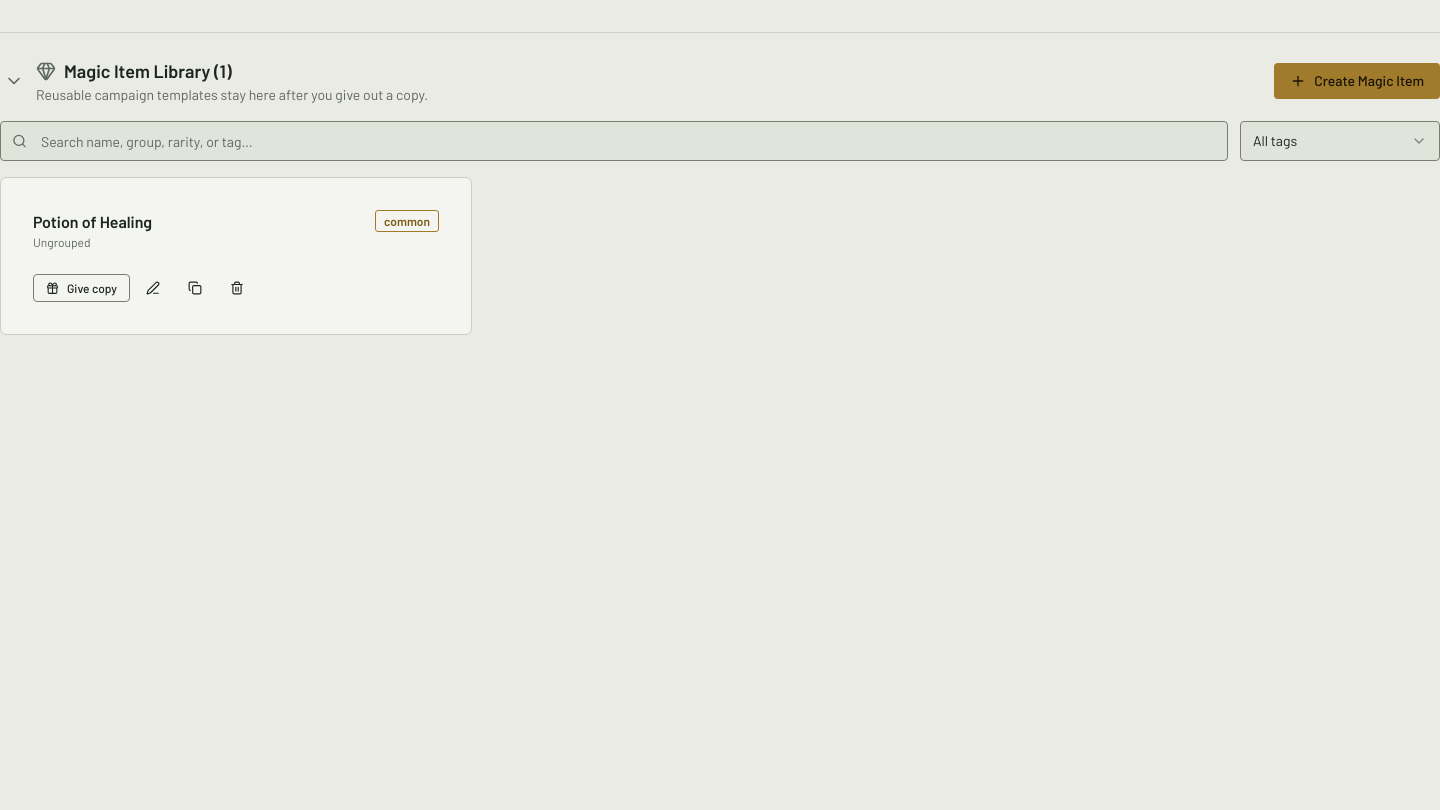
MagicItemLibrarySection › groups give recipients into players and NPCs
Click the button "Give copy": [82, 288] box [33, 274, 130, 302]
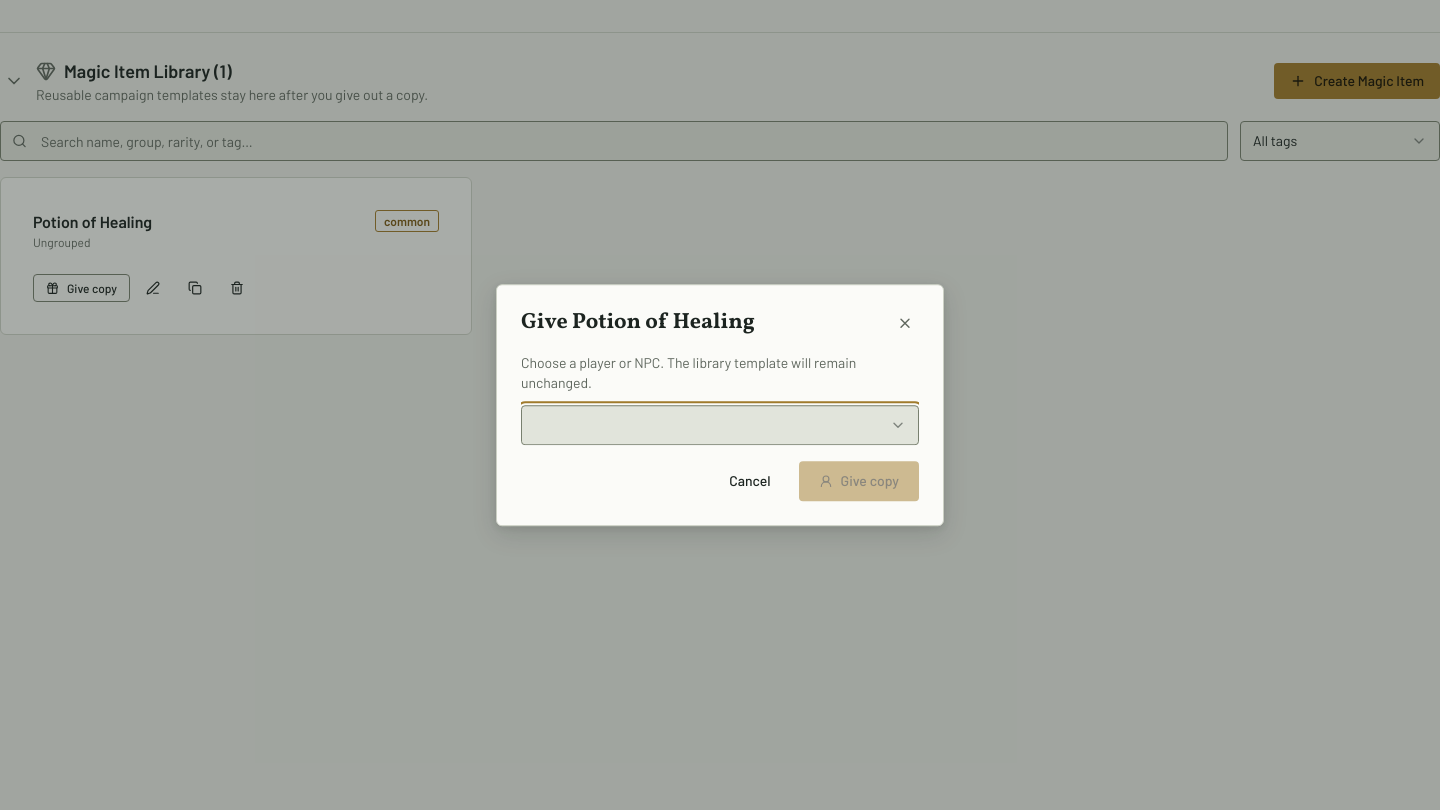
Click the dropdown: [898, 425] box [521, 405, 919, 445]
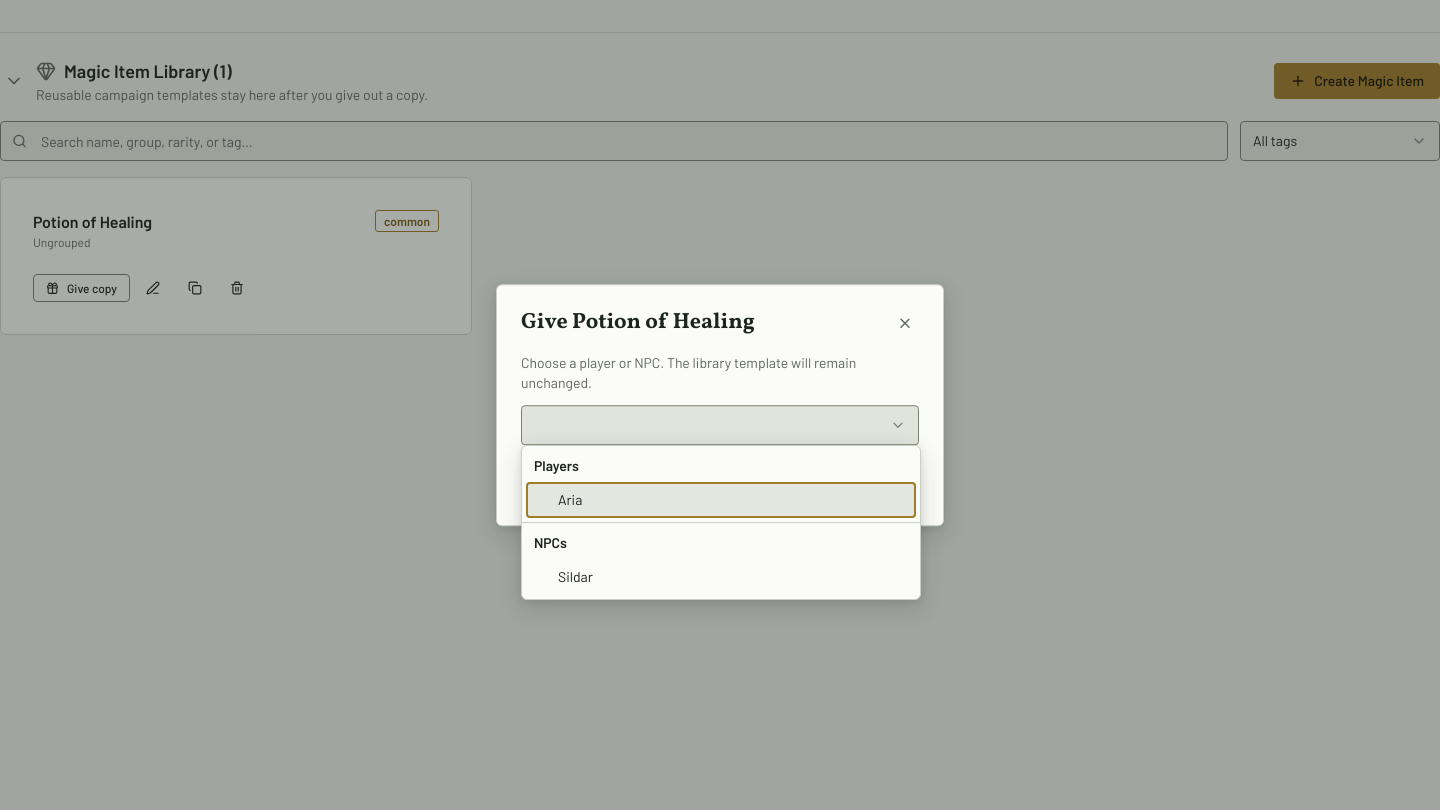
Check: the text "Players" is shown, box [534, 457, 579, 474]
Check: the text "Aria" is shown, box [558, 491, 582, 508]
Check: the text "NPCs" is shown, box [534, 534, 567, 551]
